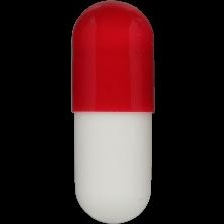21695-822: (0, 0, 224, 224)
